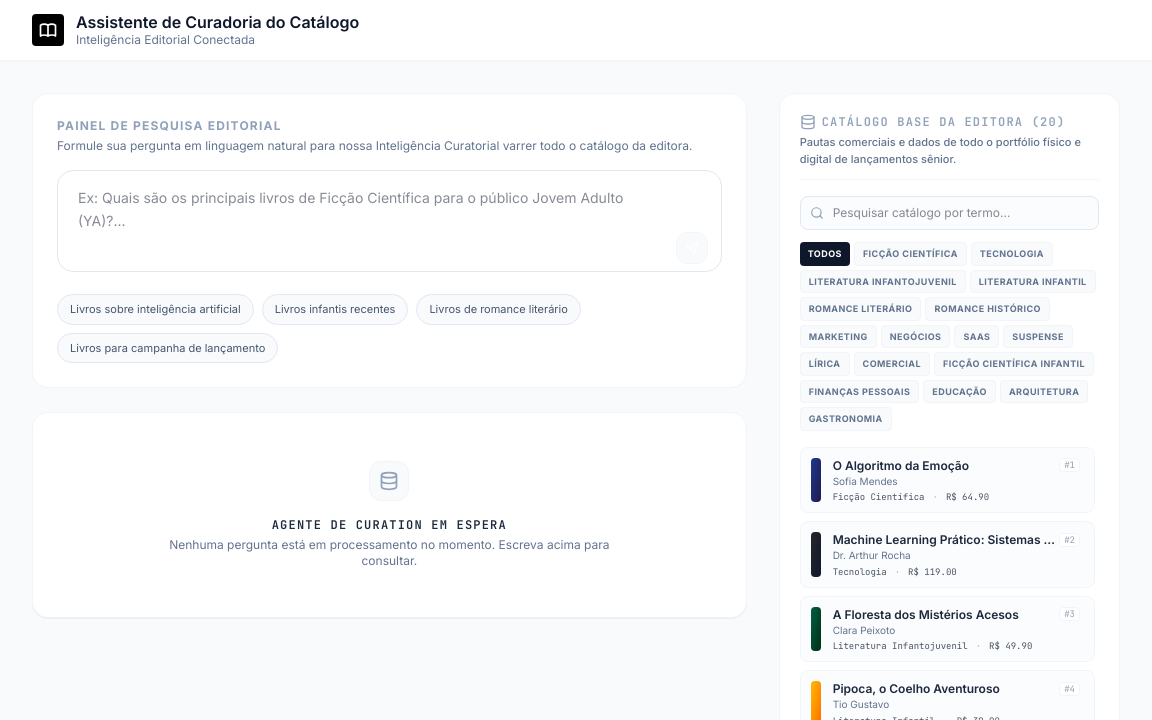
App Component - Feedback System › deve enviar feedback positivo e mostrar mensagem de sucesso
Step 1. Replace the text in the text box with placeholder "Ex: Quais são os principais livros" with "Teste de pergunta" → (389,221), box [57,170,722,272]
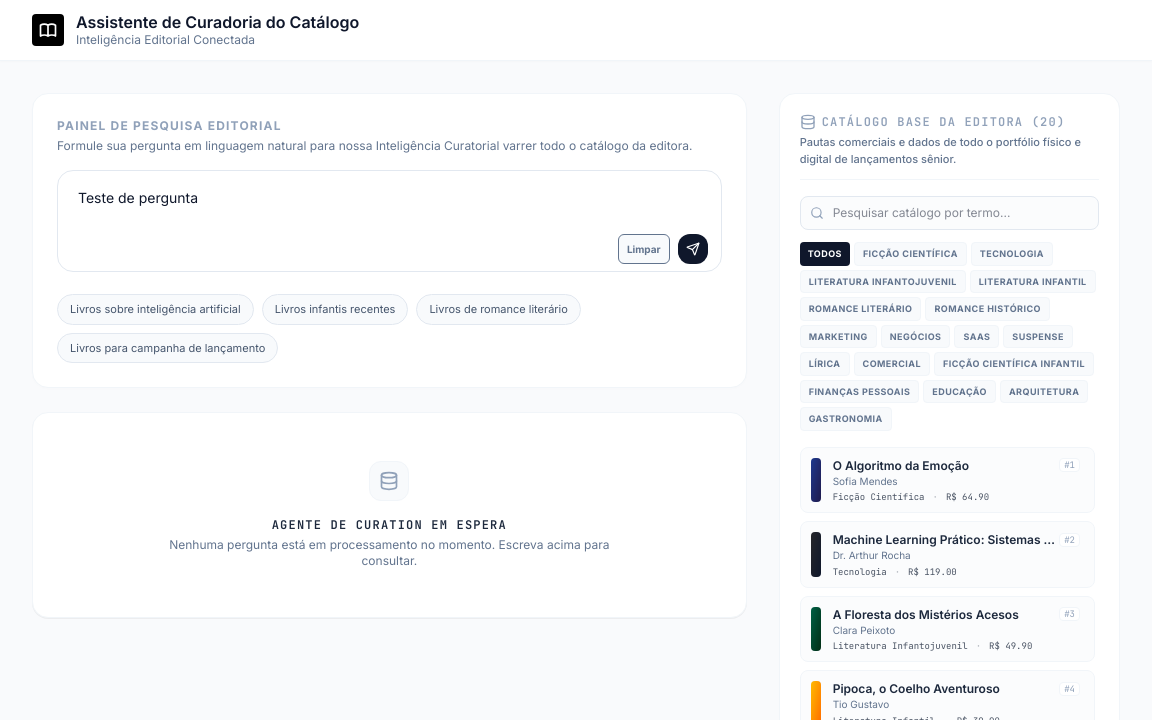
Step 2. Submit the form with placeholder "Ex: Quais são os principais livros", box [57,170,722,278]
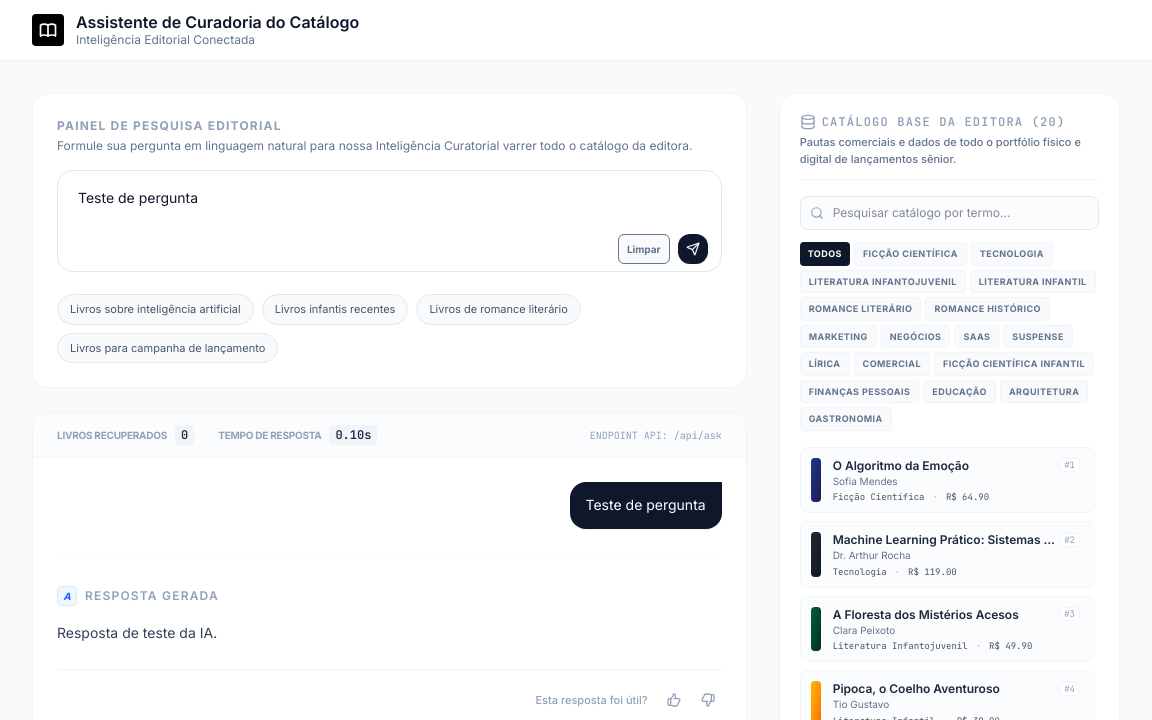
Now the text "Esta resposta foi útil?" is shown, box [535,692,648,708]
Step 3. Click the button titled "Sim, foi útil" → (674,700), box [660,686,688,714]
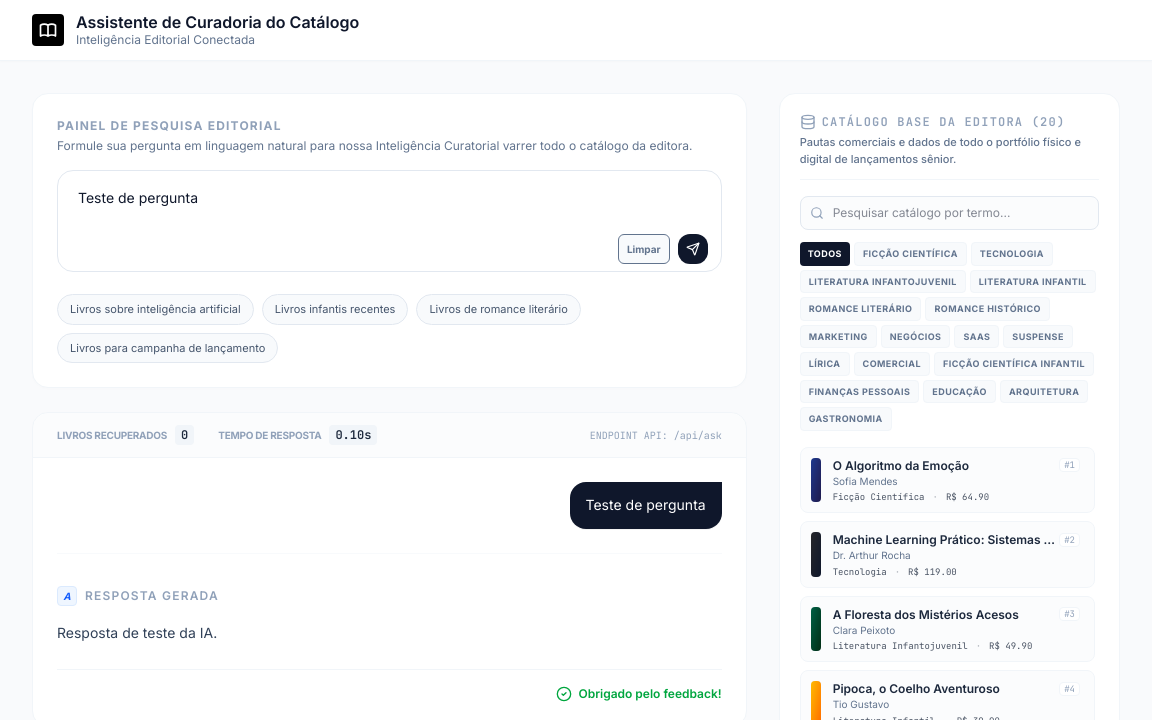
Now the text "Obrigado pelo feedback!" is shown, box [556,686,722,702]
